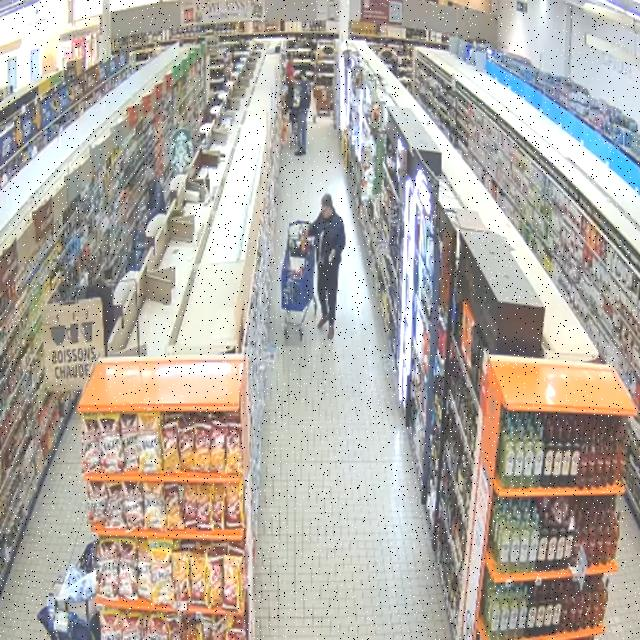article: (299, 232, 306, 255)
hands: (329, 250, 335, 263), (302, 228, 308, 240)
person: (307, 194, 345, 340), (295, 73, 310, 155), (146, 168, 166, 223)
